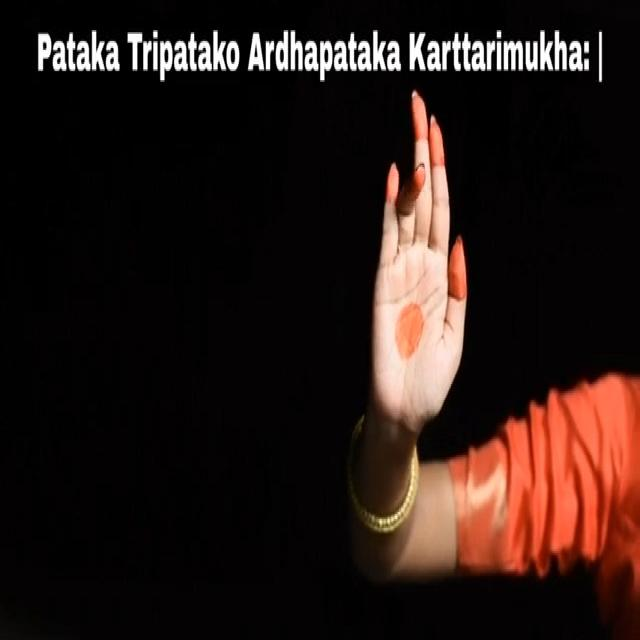Tripataka: (355, 90, 482, 577)
bangle: (334, 450, 424, 536)
text: (19, 7, 612, 88)
